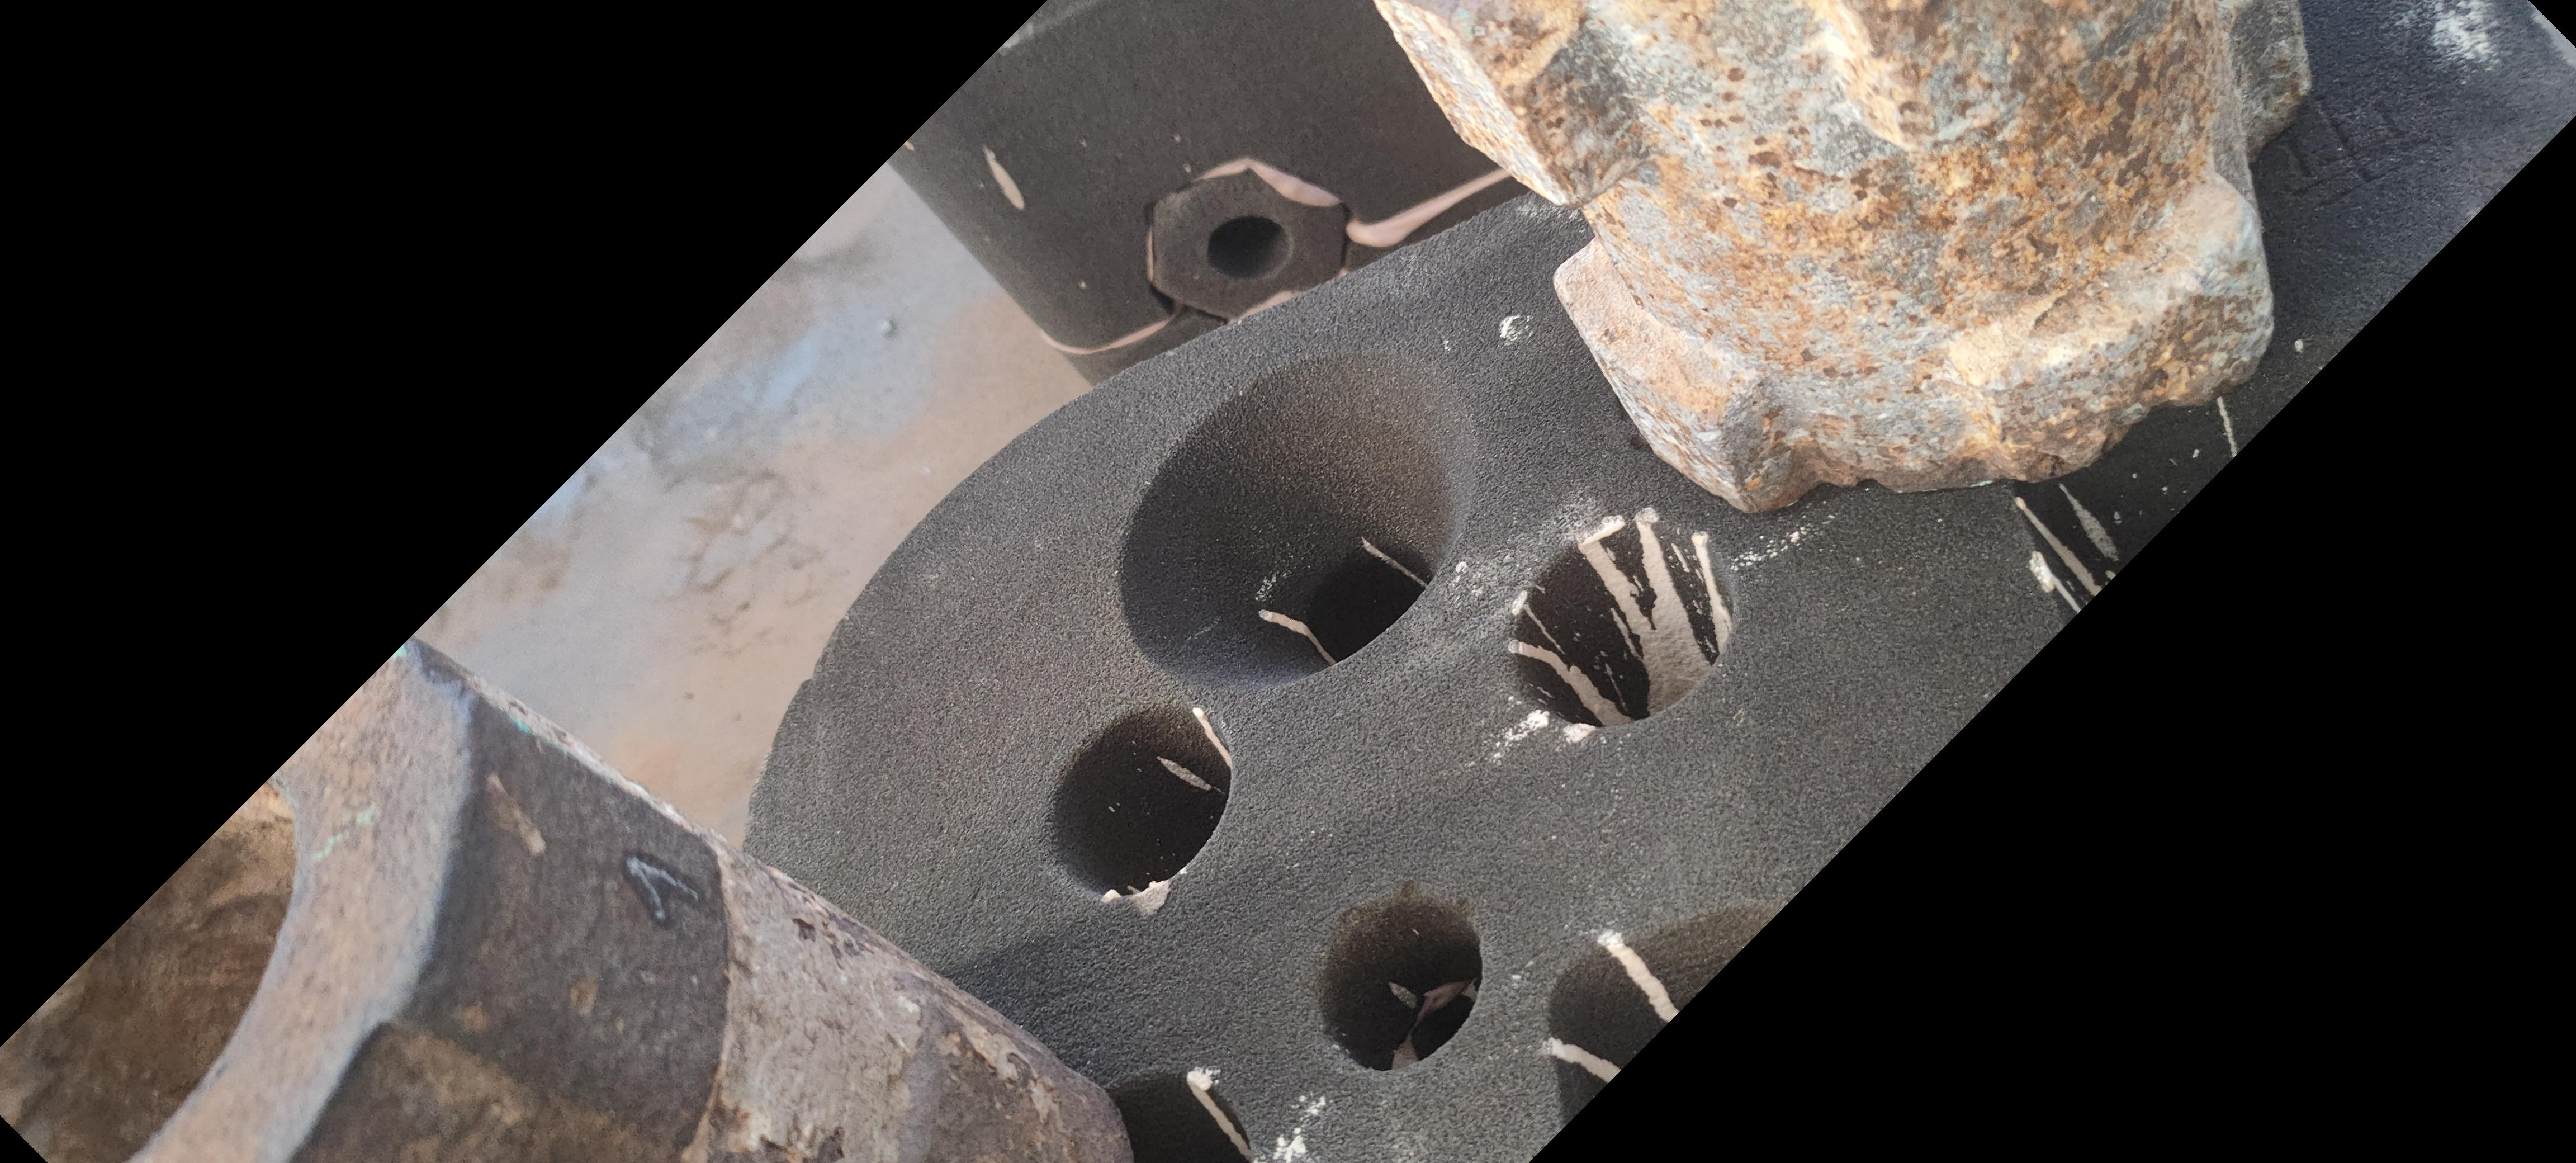pouring hole: (1119, 353, 1482, 687)
